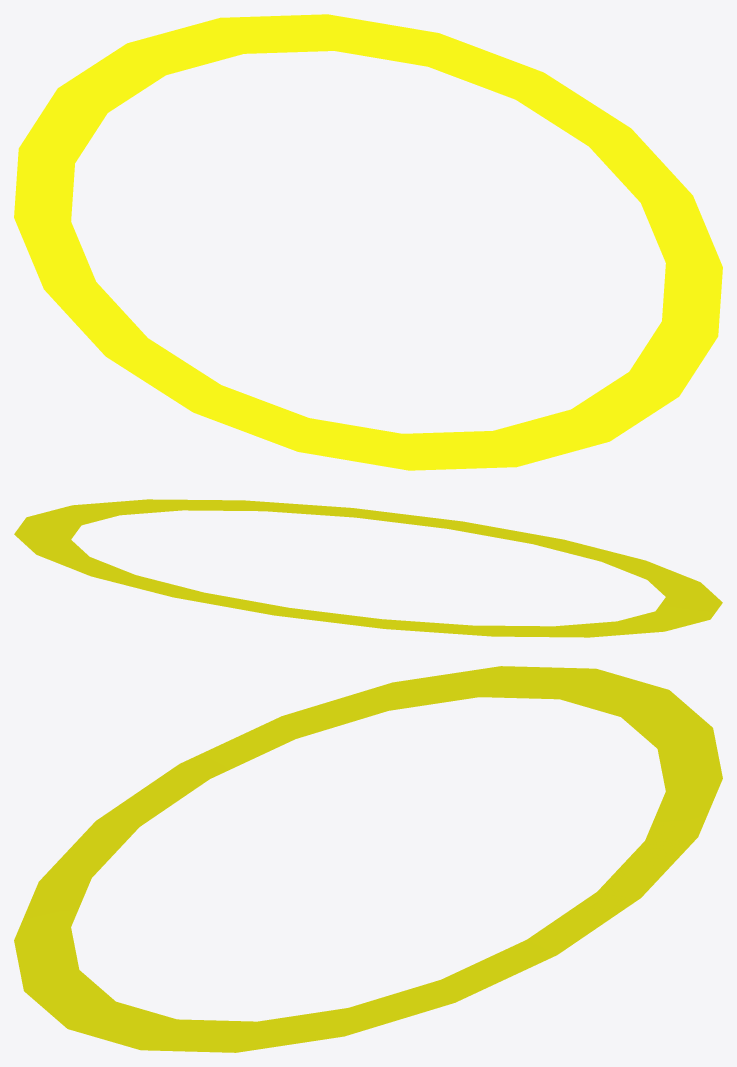
The model's file is RadialPulse.fbx.
3 views of the same model, one above another, from view 1: azimuth 30°, elevation 25°; view 2: azimuth 150°, elevation 25°; view 3: azimuth 270°, elevation 25° (orthographic). The views are drawn at different scales.
Parts seen in each view (by area): view 1: CircleGeo; view 2: CircleGeo; view 3: CircleGeo.
Boxes of the visible parts, x1,y1,x2,y2 form: CircleGeo: (14, 14, 722, 470); CircleGeo: (14, 499, 722, 637); CircleGeo: (14, 666, 722, 1052).
Bounding box in the file's own units: 14.63 × 4.18 × 14.06.
